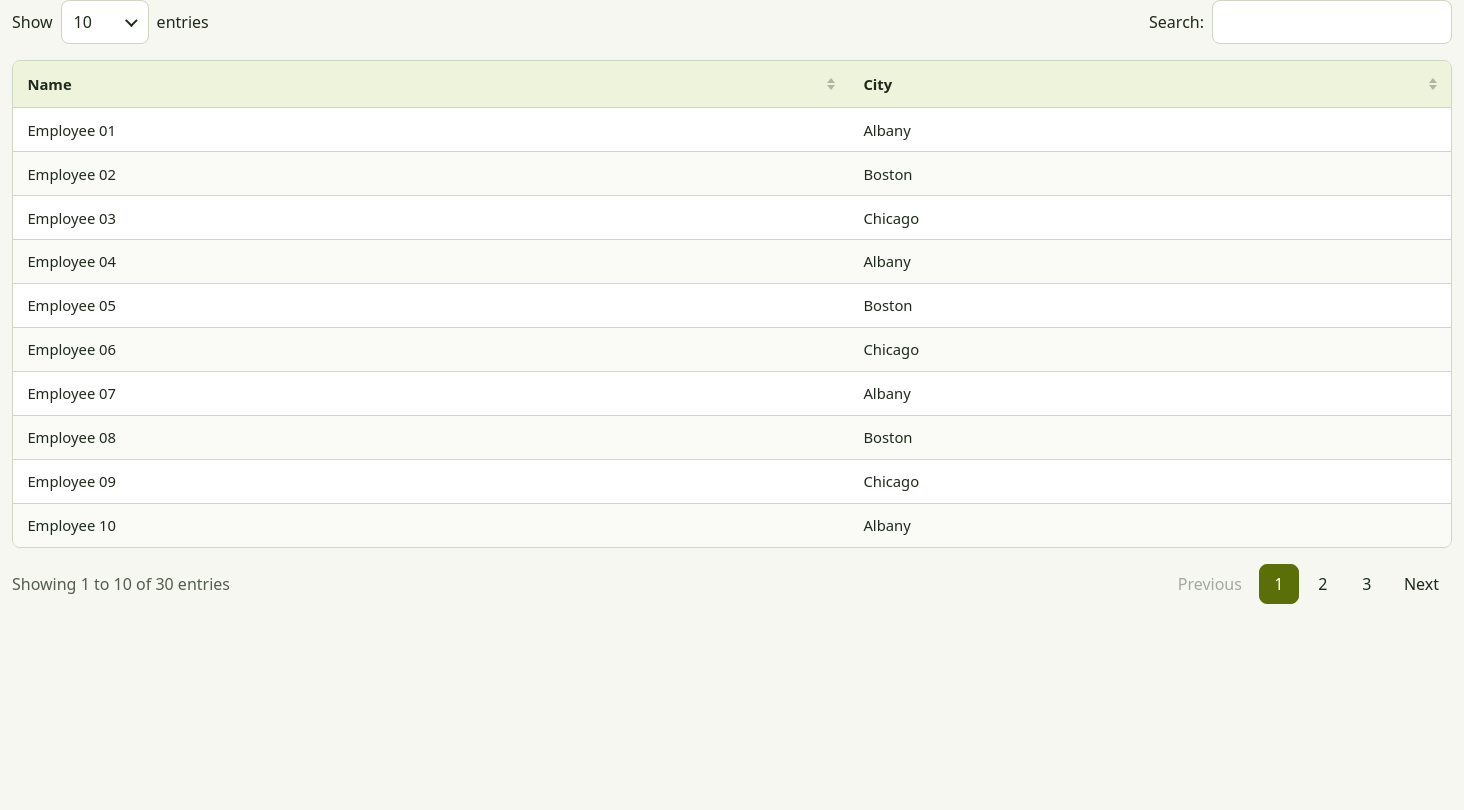
Scenario: DataTable › changes the number of entries per page
What coordinates should you click on to do the following:
click the dropdown named "Show entries"
I would click on:
 (105, 22)
Its box is [61, 0, 149, 44].
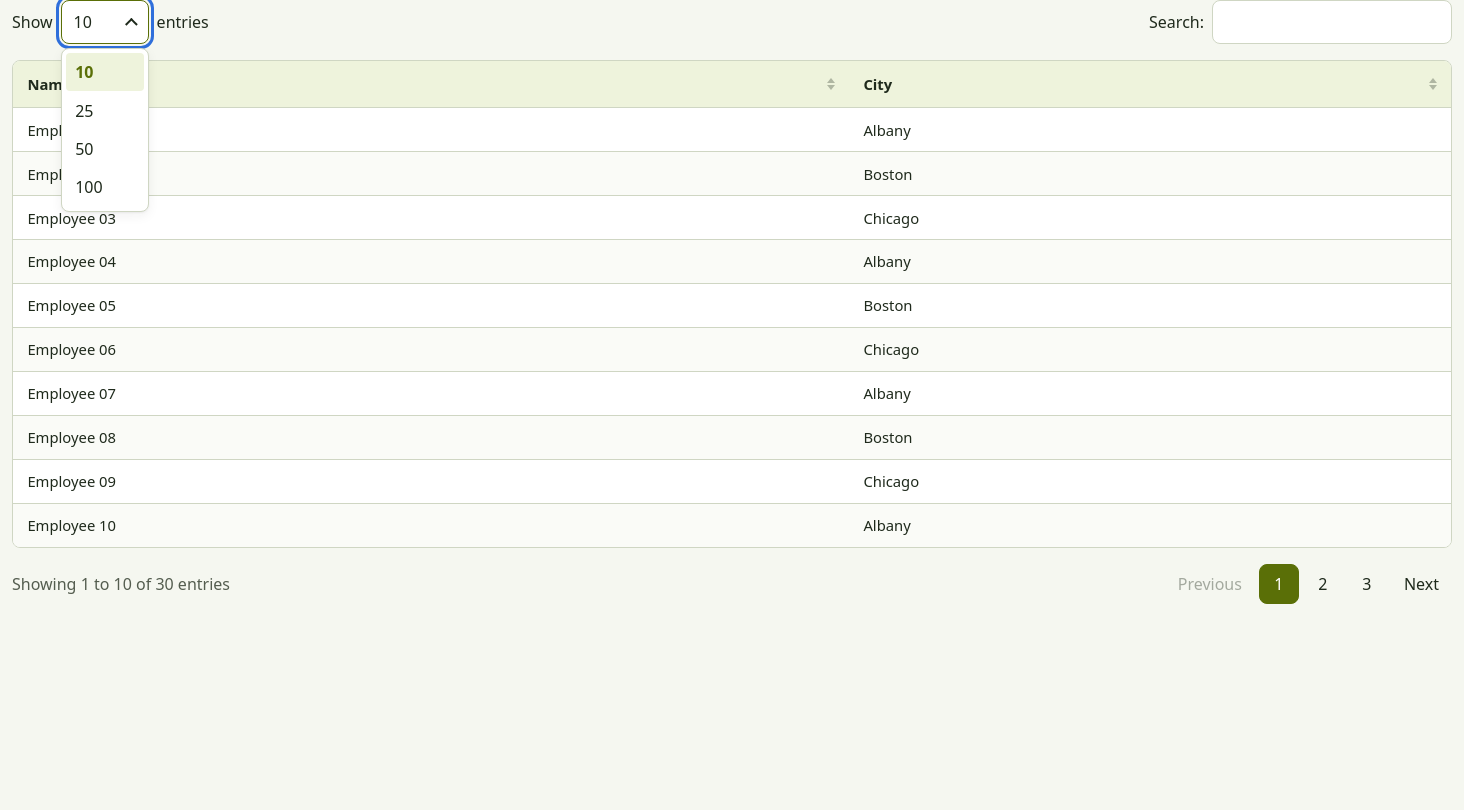
What coordinates should you click on to do the following:
click the option "25"
I would click on:
 (84, 111)
Its box is [75, 100, 94, 122].
(page scrolled)
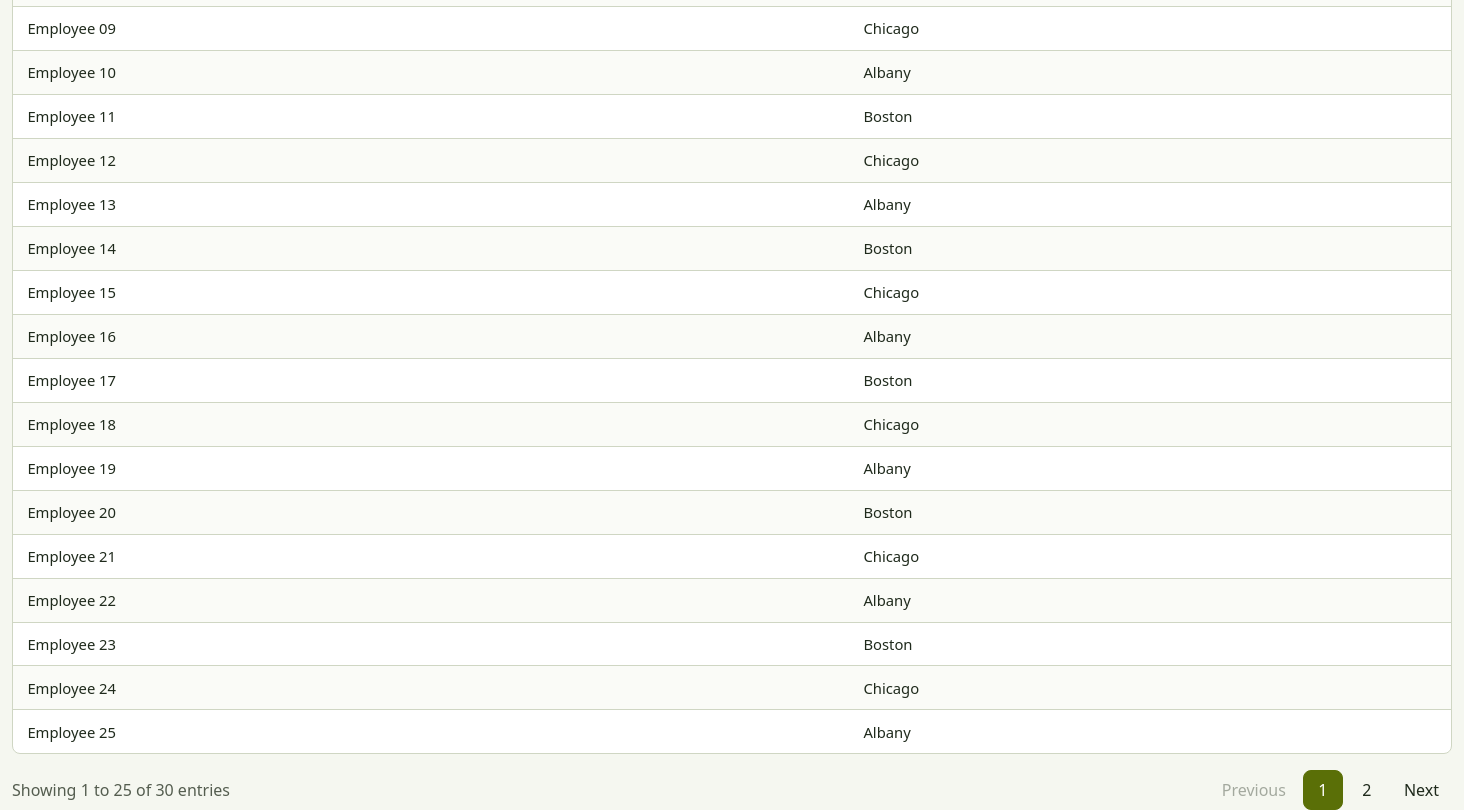
Check: the text "Showing 1 to 25 of 30 entries" is shown, box [12, 778, 230, 802]
